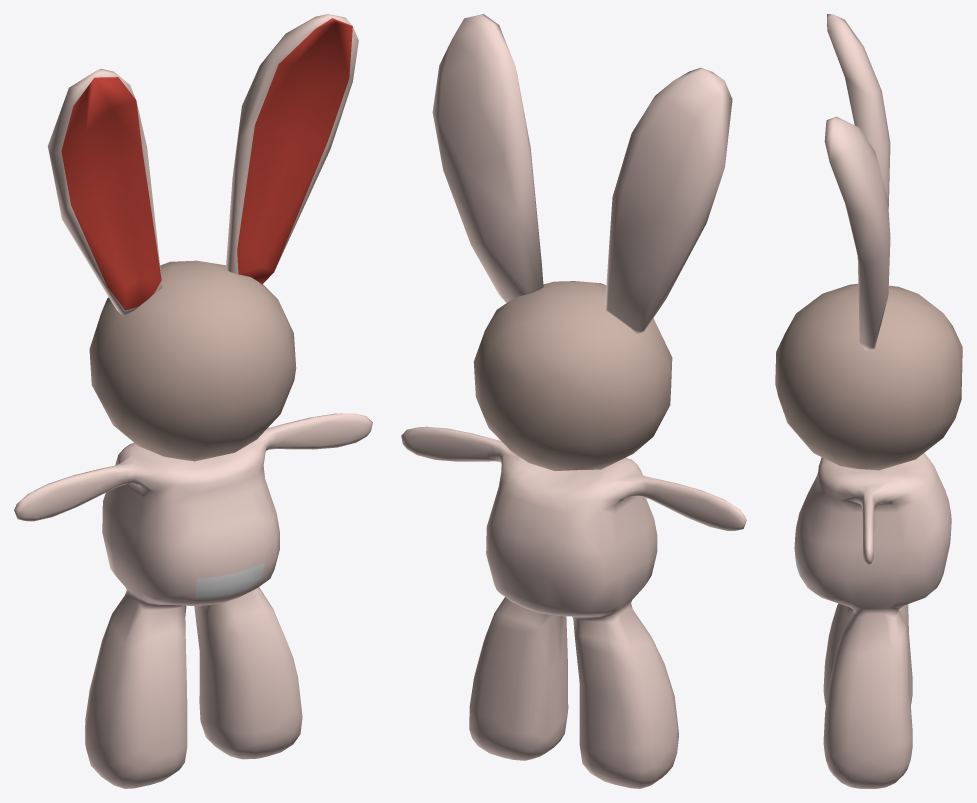
File: Bunny.fbx
3 views of the same model, side by side, from view 1: azimuth 30°, elevation 25°; view 2: azimuth 150°, elevation 25°; view 3: azimuth 270°, elevation 25° (orthographic). The views are drawn at different scales.
Parts seen in each view (by area): view 1: Body, Ear, Head; view 2: Body, Ear, Head; view 3: Body, Head, Ear.
Boxes of the visible parts, box(x1,y1,x2,y2) form: Body: box(14, 413, 372, 788); Ear: box(47, 14, 358, 316); Head: box(89, 260, 296, 461); Body: box(401, 426, 746, 788); Ear: box(432, 14, 732, 334); Head: box(473, 281, 672, 470); Body: box(794, 453, 951, 788); Head: box(775, 283, 962, 470); Ear: box(824, 14, 890, 350).
Size of what is drawn, in the model's own units: 15.54 by 30.56 by 7.54.
